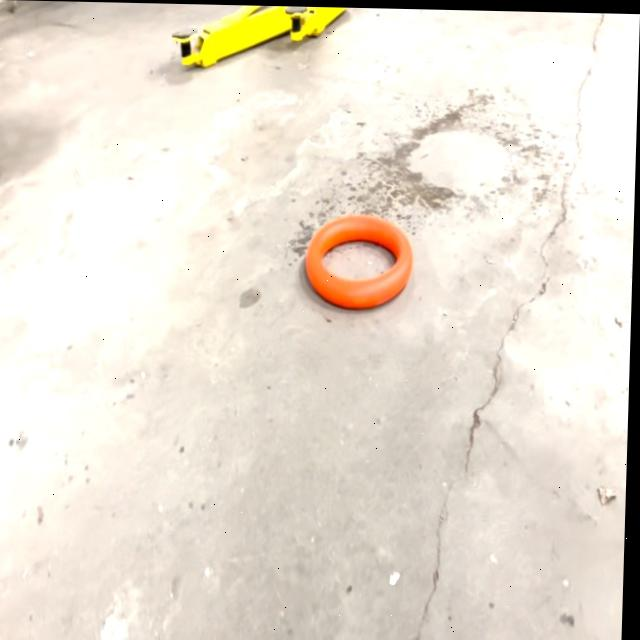note: (306, 212, 413, 306)
